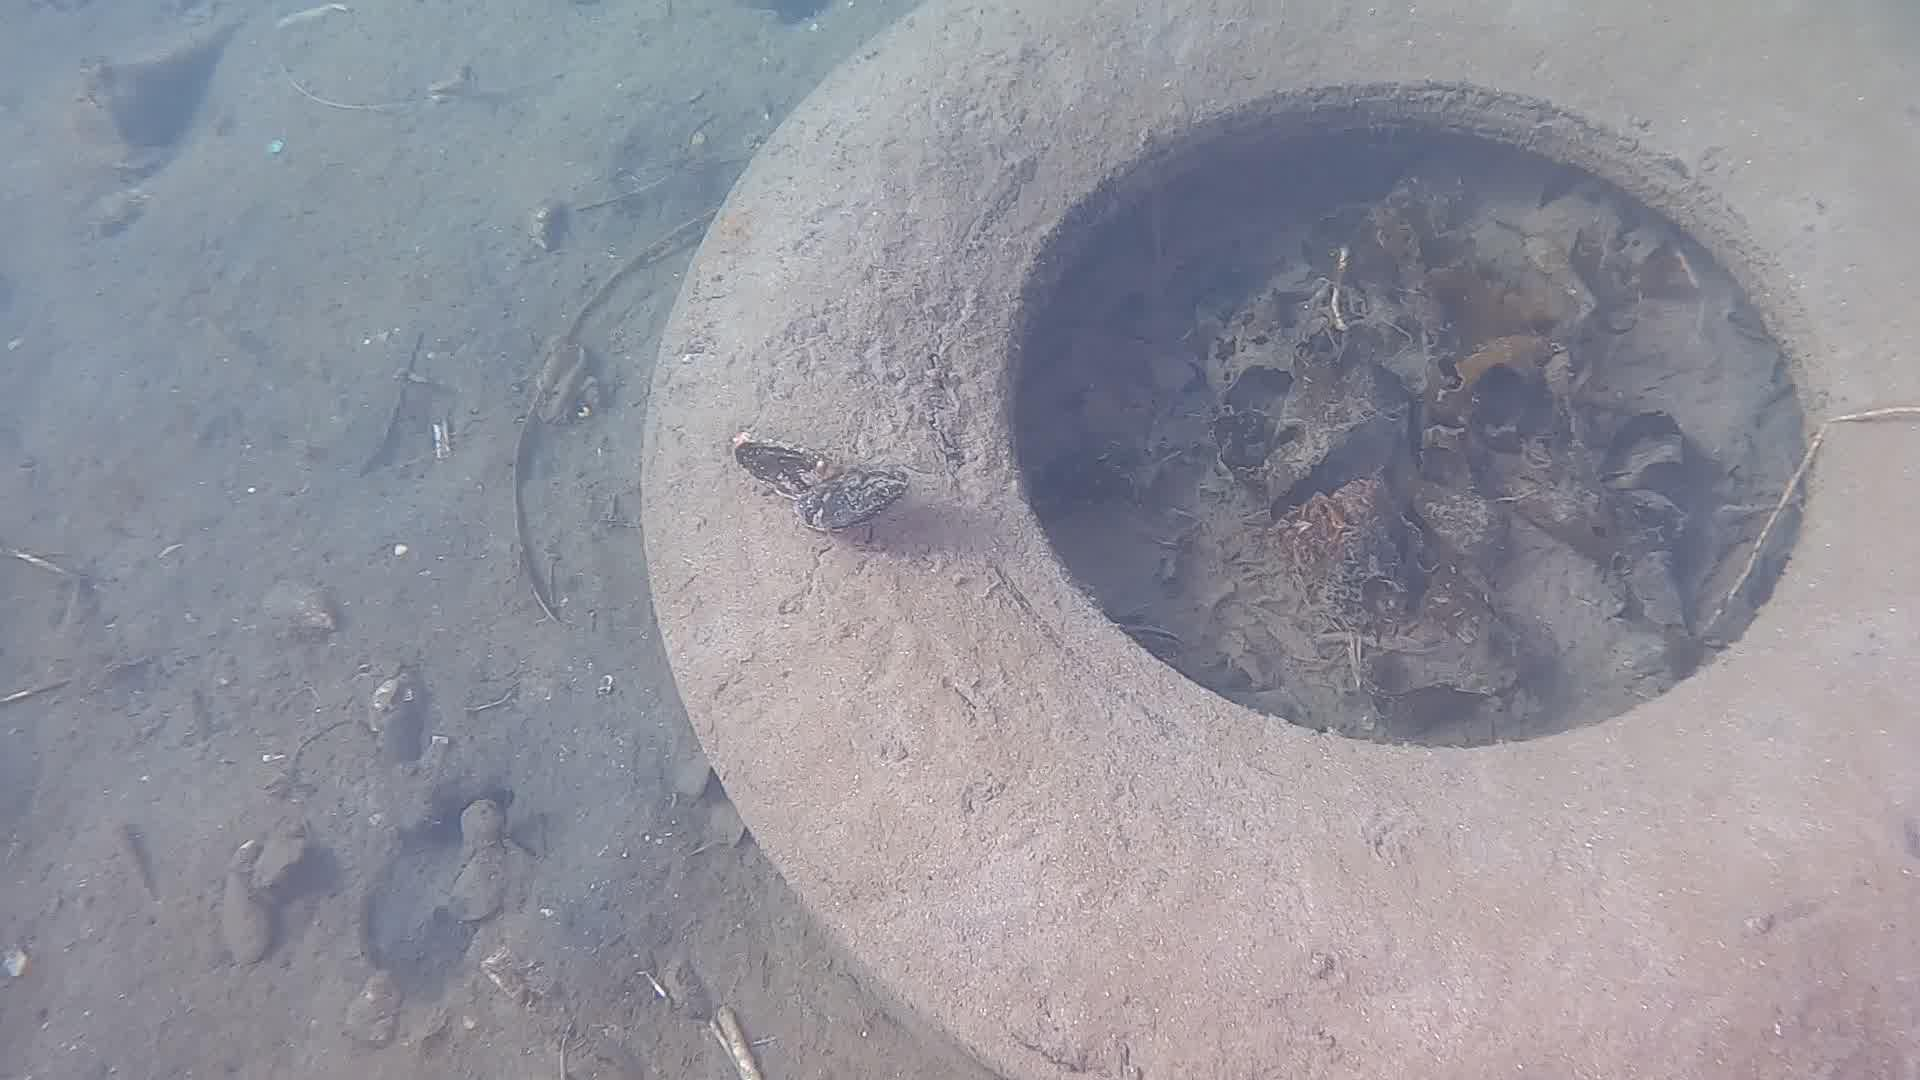tire: (633, 0, 1920, 1080)
